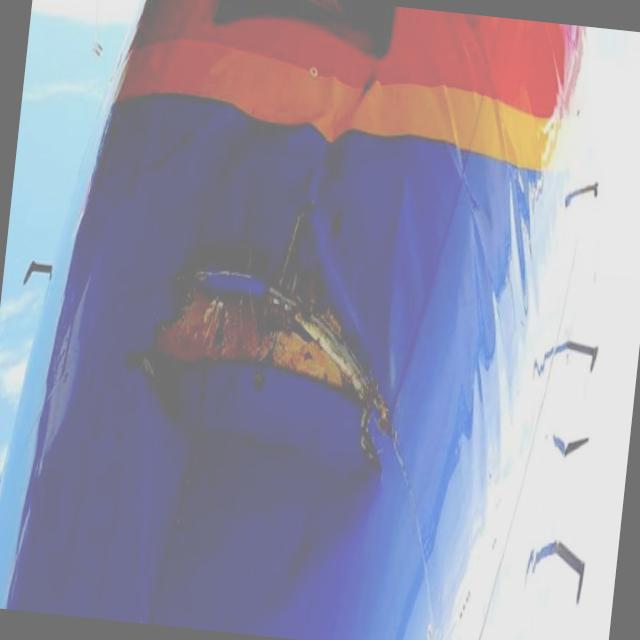crack: (128, 249, 409, 500)
